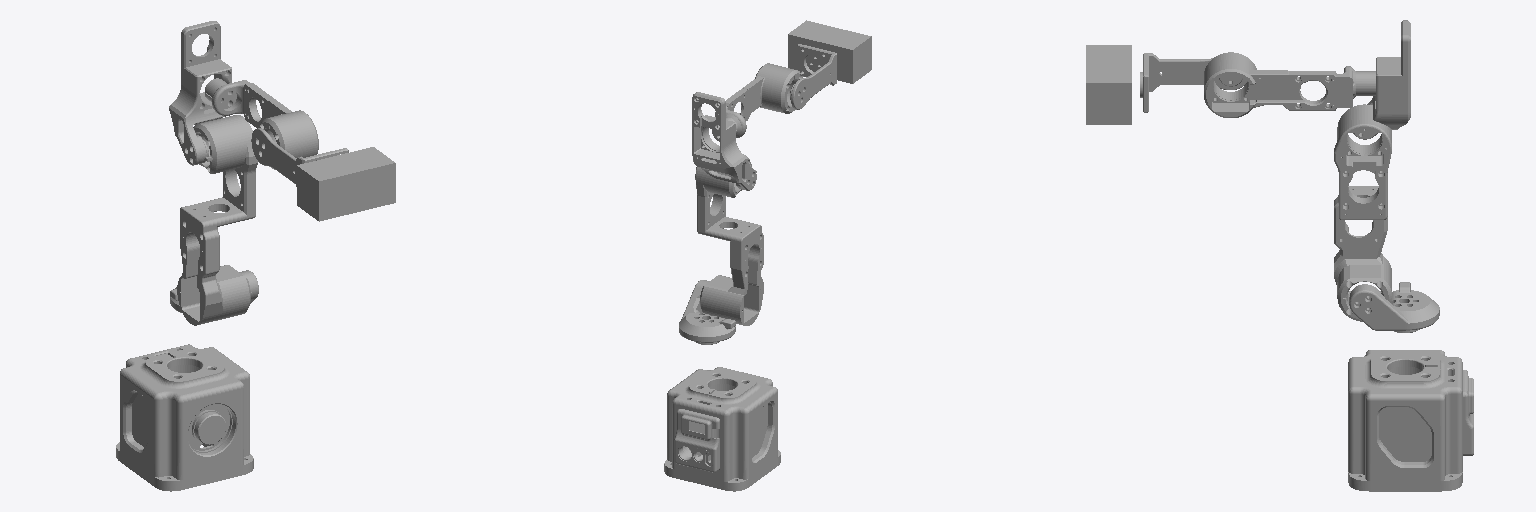
The robot description file, URDF, robot "dummy":
<?xml version="1.0" ?>
<!-- =================================================================================== -->
<!-- |    This document was autogenerated by xacro from src/dummy-ros2_description/urdf/dummy-ros2.xacro | -->
<!-- |    EDITING THIS FILE BY HAND IS NOT RECOMMENDED                                 | -->
<!-- =================================================================================== -->
<robot name="dummy">
  <material name="silver">
    <color rgba="0.700 0.700 0.700 1.000"/>
  </material>
  <transmission name="Joint1_tran">
    <type>transmission_interface/SimpleTransmission</type>
    <joint name="Joint1">
      <hardwareInterface>hardware_interface/EffortJointInterface</hardwareInterface>
    </joint>
    <actuator name="Joint1_actr">
      <hardwareInterface>hardware_interface/EffortJointInterface</hardwareInterface>
      <mechanicalReduction>1</mechanicalReduction>
    </actuator>
  </transmission>
  <transmission name="Joint2_tran">
    <type>transmission_interface/SimpleTransmission</type>
    <joint name="Joint2">
      <hardwareInterface>hardware_interface/EffortJointInterface</hardwareInterface>
    </joint>
    <actuator name="Joint2_actr">
      <hardwareInterface>hardware_interface/EffortJointInterface</hardwareInterface>
      <mechanicalReduction>1</mechanicalReduction>
    </actuator>
  </transmission>
  <transmission name="Joint3_tran">
    <type>transmission_interface/SimpleTransmission</type>
    <joint name="Joint3">
      <hardwareInterface>hardware_interface/EffortJointInterface</hardwareInterface>
    </joint>
    <actuator name="Joint3_actr">
      <hardwareInterface>hardware_interface/EffortJointInterface</hardwareInterface>
      <mechanicalReduction>1</mechanicalReduction>
    </actuator>
  </transmission>
  <transmission name="Joint4_tran">
    <type>transmission_interface/SimpleTransmission</type>
    <joint name="Joint4">
      <hardwareInterface>hardware_interface/EffortJointInterface</hardwareInterface>
    </joint>
    <actuator name="Joint4_actr">
      <hardwareInterface>hardware_interface/EffortJointInterface</hardwareInterface>
      <mechanicalReduction>1</mechanicalReduction>
    </actuator>
  </transmission>
  <transmission name="Joint5_tran">
    <type>transmission_interface/SimpleTransmission</type>
    <joint name="Joint5">
      <hardwareInterface>hardware_interface/EffortJointInterface</hardwareInterface>
    </joint>
    <actuator name="Joint5_actr">
      <hardwareInterface>hardware_interface/EffortJointInterface</hardwareInterface>
      <mechanicalReduction>1</mechanicalReduction>
    </actuator>
  </transmission>
  <transmission name="Joint6_tran">
    <type>transmission_interface/SimpleTransmission</type>
    <joint name="Joint6">
      <hardwareInterface>hardware_interface/EffortJointInterface</hardwareInterface>
    </joint>
    <actuator name="Joint6_actr">
      <hardwareInterface>hardware_interface/EffortJointInterface</hardwareInterface>
      <mechanicalReduction>1</mechanicalReduction>
    </actuator>
  </transmission>
  <gazebo>
    <plugin filename="libgazebo_ros_control.so" name="control"/>
  </gazebo>
  <gazebo reference="base_link">
    <material>Gazebo/Silver</material>
    <mu1>0.2</mu1>
    <mu2>0.2</mu2>
    <self_collide>true</self_collide>
    <gravity>true</gravity>
  </gazebo>
  <gazebo reference="link1_1_1">
    <material>Gazebo/Silver</material>
    <mu1>0.2</mu1>
    <mu2>0.2</mu2>
    <self_collide>true</self_collide>
  </gazebo>
  <gazebo reference="link2_1_1">
    <material>Gazebo/Silver</material>
    <mu1>0.2</mu1>
    <mu2>0.2</mu2>
    <self_collide>true</self_collide>
  </gazebo>
  <gazebo reference="link3_1_1">
    <material>Gazebo/Silver</material>
    <mu1>0.2</mu1>
    <mu2>0.2</mu2>
    <self_collide>true</self_collide>
  </gazebo>
  <gazebo reference="link4_1_1">
    <material>Gazebo/Silver</material>
    <mu1>0.2</mu1>
    <mu2>0.2</mu2>
    <self_collide>true</self_collide>
  </gazebo>
  <gazebo reference="link5_1_1">
    <material>Gazebo/Silver</material>
    <mu1>0.2</mu1>
    <mu2>0.2</mu2>
    <self_collide>true</self_collide>
  </gazebo>
  <gazebo reference="link6_1_1">
    <material>Gazebo/Silver</material>
    <mu1>0.2</mu1>
    <mu2>0.2</mu2>
    <self_collide>true</self_collide>
  </gazebo>
  <link name="world"/>
  <joint name="world_joint" type="fixed">
    <parent link="world"/>
    <child link="base_link"/>
    <origin rpy="3.1415926536 3.1415926536 0.0" xyz="0.0 0.0 0.0"/>
  </joint>
  <link name="base_link">
    <inertial>
      <origin rpy="0 0 0" xyz="-0.019286443307707055 0.0005817485706867557 0.05546290448958129"/>
      <mass value="3.4054232030550327"/>
      <inertia ixx="0.006318" ixy="-1.1e-05" ixz="-2e-06" iyy="0.00644" iyz="-0.000164" izz="0.006723"/>
    </inertial>
    <visual>
      <origin rpy="0 0 0" xyz="0.019286443307707055 -0.0005817485706867557 -0.05546290448958129"/>
      <geometry>
        <mesh filename="./meshes/base_link.stl" scale="0.001 0.001 0.001"/>
      </geometry>
      <material name="silver"/>
    </visual>
    <collision>
      <origin rpy="0 0 0" xyz="0 0 0"/>
      <geometry>
        <mesh filename="./meshes/base_link.stl" scale="0.001 0.001 0.001"/>
      </geometry>
    </collision>
  </link>
  <link name="link1_1_1">
    <inertial>
      <origin rpy="0 0 0" xyz="-0.005744742318232344 0.005464327027038366 0.012045619429015192"/>
      <mass value="0.4000119946706078"/>
      <inertia ixx="0.000172" ixy="5.8e-05" ixz="2.7e-05" iyy="0.000152" iyz="-3.9e-05" izz="0.00025"/>
    </inertial>
    <visual>
      <origin rpy="0 0 0" xyz="0.019225 0.000523 -0.100684"/>
      <geometry>
        <mesh filename="./meshes/link1_1_1.stl" scale="0.001 0.001 0.001"/>
      </geometry>
      <material name="silver"/>
    </visual>
    <collision>
      <origin rpy="0 0 0" xyz="0.019225 0.000523 -0.100684"/>
      <geometry>
        <mesh filename="./meshes/link1_1_1.stl" scale="0.001 0.001 0.001"/>
      </geometry>
    </collision>
  </link>
  <link name="link2_1_1">
    <inertial>
      <origin rpy="0 0 0" xyz="0.022476329402049397 0.0015836740439541114 0.0701478637986927"/>
      <mass value="0.9644194016592866"/>
      <inertia ixx="0.003808" ixy="-1e-05" ixz="0.000274" iyy="0.003848" iyz="1.3e-05" izz="0.000499"/>
    </inertial>
    <visual>
      <origin rpy="0 0 0" xyz="0.034725 -0.034477 -0.129184"/>
      <geometry>
        <mesh filename="./meshes/link2_1_1.stl" scale="0.001 0.001 0.001"/>
      </geometry>
      <material name="silver"/>
    </visual>
    <collision>
      <origin rpy="0 0 0" xyz="0.034725 -0.034477 -0.129184"/>
      <geometry>
        <mesh filename="./meshes/link2_1_1.stl" scale="0.001 0.001 0.001"/>
      </geometry>
    </collision>
  </link>
  <link name="link3_1_1">
    <inertial>
      <origin rpy="0 0 0" xyz="-0.010730263185093621 -0.022369081214190782 0.036467614070683996"/>
      <mass value="0.3817226974329336"/>
      <inertia ixx="0.000328" ixy="-2.4e-05" ixz="6.5e-05" iyy="0.00037" iyz="6.8e-05" izz="0.000146"/>
    </inertial>
    <visual>
      <origin rpy="0 0 0" xyz="-0.001925 -0.034477 -0.275184"/>
      <geometry>
        <mesh filename="./meshes/link3_1_1.stl" scale="0.001 0.001 0.001"/>
      </geometry>
      <material name="silver"/>
    </visual>
    <collision>
      <origin rpy="0 0 0" xyz="-0.001925 -0.034477 -0.275184"/>
      <geometry>
        <mesh filename="./meshes/link3_1_1.stl" scale="0.001 0.001 0.001"/>
      </geometry>
    </collision>
  </link>
  <link name="link4_1_1">
    <inertial>
      <origin rpy="0 0 0" xyz="-0.004221306676286125 0.09021372117053507 0.00026828289249919424"/>
      <mass value="0.44370009904209484"/>
      <inertia ixx="0.001103" ixy="-3.2e-05" ixz="1e-06" iyy="0.00012" iyz="-1e-06" izz="0.001078"/>
    </inertial>
    <visual>
      <origin rpy="0 0 0" xyz="0.016625 -0.024477 -0.327184"/>
      <geometry>
        <mesh filename="./meshes/link4_1_1.stl" scale="0.001 0.001 0.001"/>
      </geometry>
      <material name="silver"/>
    </visual>
    <collision>
      <origin rpy="0 0 0" xyz="0.016625 -0.024477 -0.327184"/>
      <geometry>
        <mesh filename="./meshes/link4_1_1.stl" scale="0.001 0.001 0.001"/>
      </geometry>
    </collision>
  </link>
  <link name="link5_1_1">
    <inertial>
      <origin rpy="0 0 0" xyz="-0.0007044959912857188 0.04181588666040692 1.9856549020258463e-05"/>
      <mass value="0.1329416987985629"/>
      <inertia ixx="0.000148" ixy="3e-05" ixz="0.0" iyy="3.5e-05" iyz="-0.0" izz="0.00016"/>
    </inertial>
    <visual>
      <origin rpy="0 0 0" xyz="-0.000175 -0.151477 -0.327184"/>
      <geometry>
        <mesh filename="./meshes/link5_1_1.stl" scale="0.001 0.001 0.001"/>
      </geometry>
      <material name="silver"/>
    </visual>
    <collision>
      <origin rpy="0 0 0" xyz="-0.000175 -0.151477 -0.327184"/>
      <geometry>
        <mesh filename="./meshes/link5_1_1.stl" scale="0.001 0.001 0.001"/>
      </geometry>
    </collision>
  </link>
  <link name="link6_1_1">
    <inertial>
      <origin rpy="0 0 0" xyz="8.866549679534264e-08 0.001500477150790519 2.701463612808652e-07"/>
      <mass value="0.00918018258883941"/>
      <inertia ixx="0.0" ixy="0.0" ixz="-0.0" iyy="1e-06" iyz="0.0" izz="0.0"/>
    </inertial>
    <visual>
      <origin rpy="0 0 0" xyz="0.018331 -0.228477 -0.327078"/>
      <geometry>
        <mesh filename="./meshes/link6_1_1.stl" scale="0.001 0.001 0.001"/>
      </geometry>
      <material name="silver"/>
    </visual>
    <collision>
      <origin rpy="0 0 0" xyz="0.018331 -0.228477 -0.327078"/>
      <geometry>
        <mesh filename="./meshes/link6_1_1.stl" scale="0.001 0.001 0.001"/>
      </geometry>
    </collision>
  </link>
  <link name="tool0">
    <inertial>
      <origin rpy="0 0 0" xyz="0 0 0.05"/> <!-- 假设重心位于矩形中间偏前 -->
      <mass value="0.05"/>
      <inertia ixx="1e-5" ixy="0.0" ixz="0.0" iyy="1e-5" iyz="0.0" izz="1e-5"/>
    </inertial>
    <visual>
      <origin rpy="0 0 0" xyz="0 0 0.05"/> <!-- 相机的几何中心 -->
      <geometry>
        <box size="0.08 0.04 0.04"/> <!-- 4x4x10 cm 的相机形状 -->
      </geometry>
      <material name="silver"/>
    </visual>
    <collision>
      <origin rpy="0 0 0" xyz="0 0 0.05"/>
      <geometry>
        <box size="0.04 0.04 0.1"/>
      </geometry>
    </collision>
  </link>
  <joint name="Joint1" type="revolute">
    <origin rpy="0 0 0" xyz="-0.019225 -0.000523 0.100684"/>
    <parent link="base_link"/>
    <child link="link1_1_1"/>
    <axis xyz="0.0 -0.0 -1.0"/>
    <limit effort="150" lower="-2.93" upper="2.18" velocity="1.00"/>
  </joint>
  <joint name="Joint2" type="revolute">
    <origin rpy="0 0 0" xyz="-0.0155 0.035 0.0285"/>
    <parent link="link1_1_1"/>
    <child link="link2_1_1"/>
    <axis xyz="-1.0 -0.0 0.0"/>
    <limit effort="150" lower="-1.27" upper="1.57" velocity="1.00"/>
  </joint>
  <joint name="Joint3" type="revolute">
    <origin rpy="0 0 0" xyz="0.03665 0.0 0.146"/>
    <parent link="link2_1_1"/>
    <child link="link3_1_1"/>
    <axis xyz="-1.0 0.0 -0.0"/>
    <limit effort="150" lower="-0.87" upper="1.57" velocity="1.00"/>
  </joint>
  <joint name="Joint4" type="revolute">
    <origin rpy="0 0 0" xyz="-0.01855 -0.01 0.052"/>
    <parent link="link3_1_1"/>
    <child link="link4_1_1"/>
    <axis xyz="0.0 -1.0 0.0"/>
    <limit effort="150" lower="-3.11" upper="2.71" velocity="1.00"/>
  </joint>
  <joint name="Joint5" type="revolute">
    <origin rpy="0 0 0" xyz="0.0168 0.127 0.0"/>
    <parent link="link4_1_1"/>
    <child link="link5_1_1"/>
    <axis xyz="-1.0 0.0 -0.0"/>
    <limit effort="150" lower="-1.8" upper="1.8" velocity="1.00"/>
  </joint>
  <joint name="Joint6" type="revolute">
    <origin rpy="0 0 0" xyz="-0.018506 0.077 -0.000106"/>
    <parent link="link5_1_1"/>
    <child link="link6_1_1"/>
    <axis xyz="-0.0 -1.0 0.0"/>
    <limit effort="150" lower="-3.14" upper="3.14" velocity="3.15"/>
  </joint>
  <joint name="tool0_joint" type="fixed">
    <parent link="link6_1_1"/>
    <child link="tool0"/>
    <origin xyz="0 0.03 -0.05" rpy="0 0 0"/> <!-- 位于 link6_1_1 正前方 5 cm -->
  </joint>
</robot>

--- Facts derived from the render (not from the file) ---
The picture shows the robot from 3 angles, left to right: view 1: azimuth 30°, elevation 25°; view 2: azimuth 150°, elevation 25°; view 3: azimuth 270°, elevation 25°; orthographic projection.
Robot: dummy — 9 links, 8 joints (6 revolute, 2 fixed); root link world; default pose: all joints at 0.
Visible links, largest first — view 1: base_link, link2_1_1, tool0, link3_1_1, link4_1_1, link5_1_1; view 2: base_link, link2_1_1, link3_1_1, tool0, link4_1_1, link1_1_1, link5_1_1; view 3: base_link, link2_1_1, link4_1_1, tool0, link1_1_1, link3_1_1, link5_1_1.
Link boxes in pixels (<box>): base_link: <box>116,344,253,491</box>; link2_1_1: <box>177,115,257,325</box>; tool0: <box>297,147,395,221</box>; link3_1_1: <box>169,21,231,165</box>; link4_1_1: <box>205,78,318,169</box>; link5_1_1: <box>251,128,348,186</box>; base_link: <box>664,367,780,491</box>; link2_1_1: <box>695,155,763,325</box>; link3_1_1: <box>692,92,756,190</box>; tool0: <box>788,20,871,83</box>; link4_1_1: <box>712,63,802,141</box>; link1_1_1: <box>679,280,735,344</box>; link5_1_1: <box>790,44,836,109</box>; base_link: <box>1348,350,1473,491</box>; link2_1_1: <box>1334,104,1391,321</box>; link4_1_1: <box>1204,52,1375,117</box>; tool0: <box>1086,45,1131,124</box>; link1_1_1: <box>1349,282,1439,332</box>; link3_1_1: <box>1353,20,1410,139</box>; link5_1_1: <box>1143,53,1247,112</box>.
Bounding box of the posed robot: 0.1084 × 0.3396 × 0.4322 m (x, y, z).
Meshes: 7 distinct files referenced, 7 mesh visuals loaded (7 binary STL).
